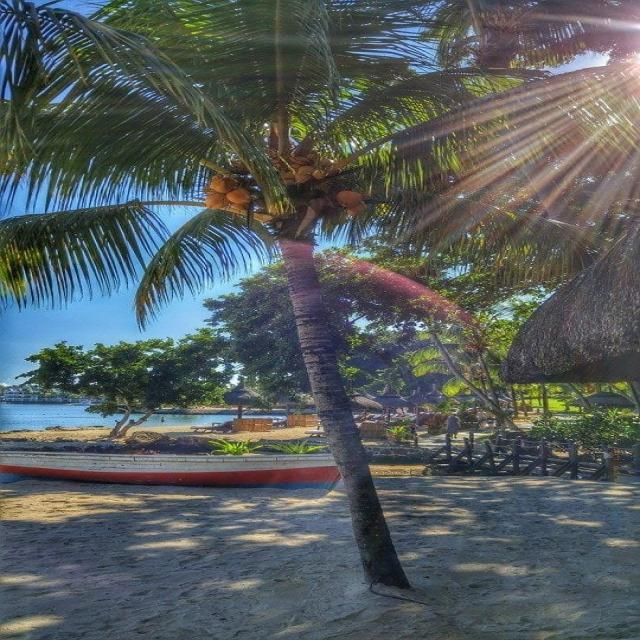Coconut-tree: (119, 41, 530, 625), (244, 108, 411, 306)
